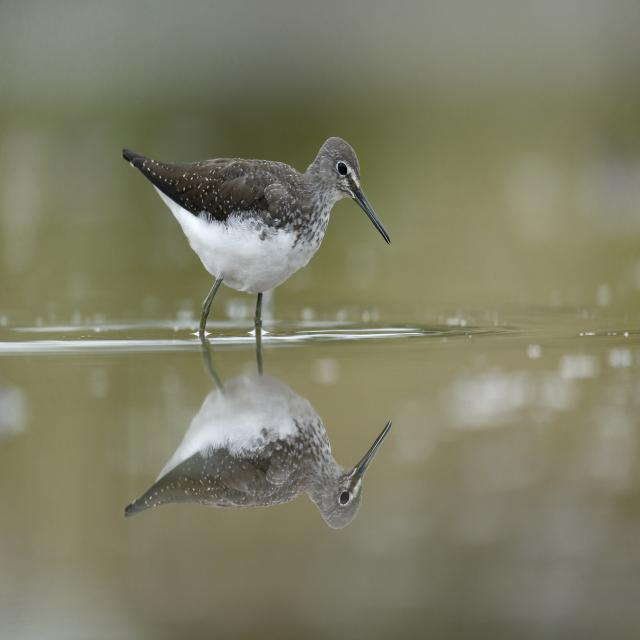Sandpiper: (117, 130, 394, 324)
